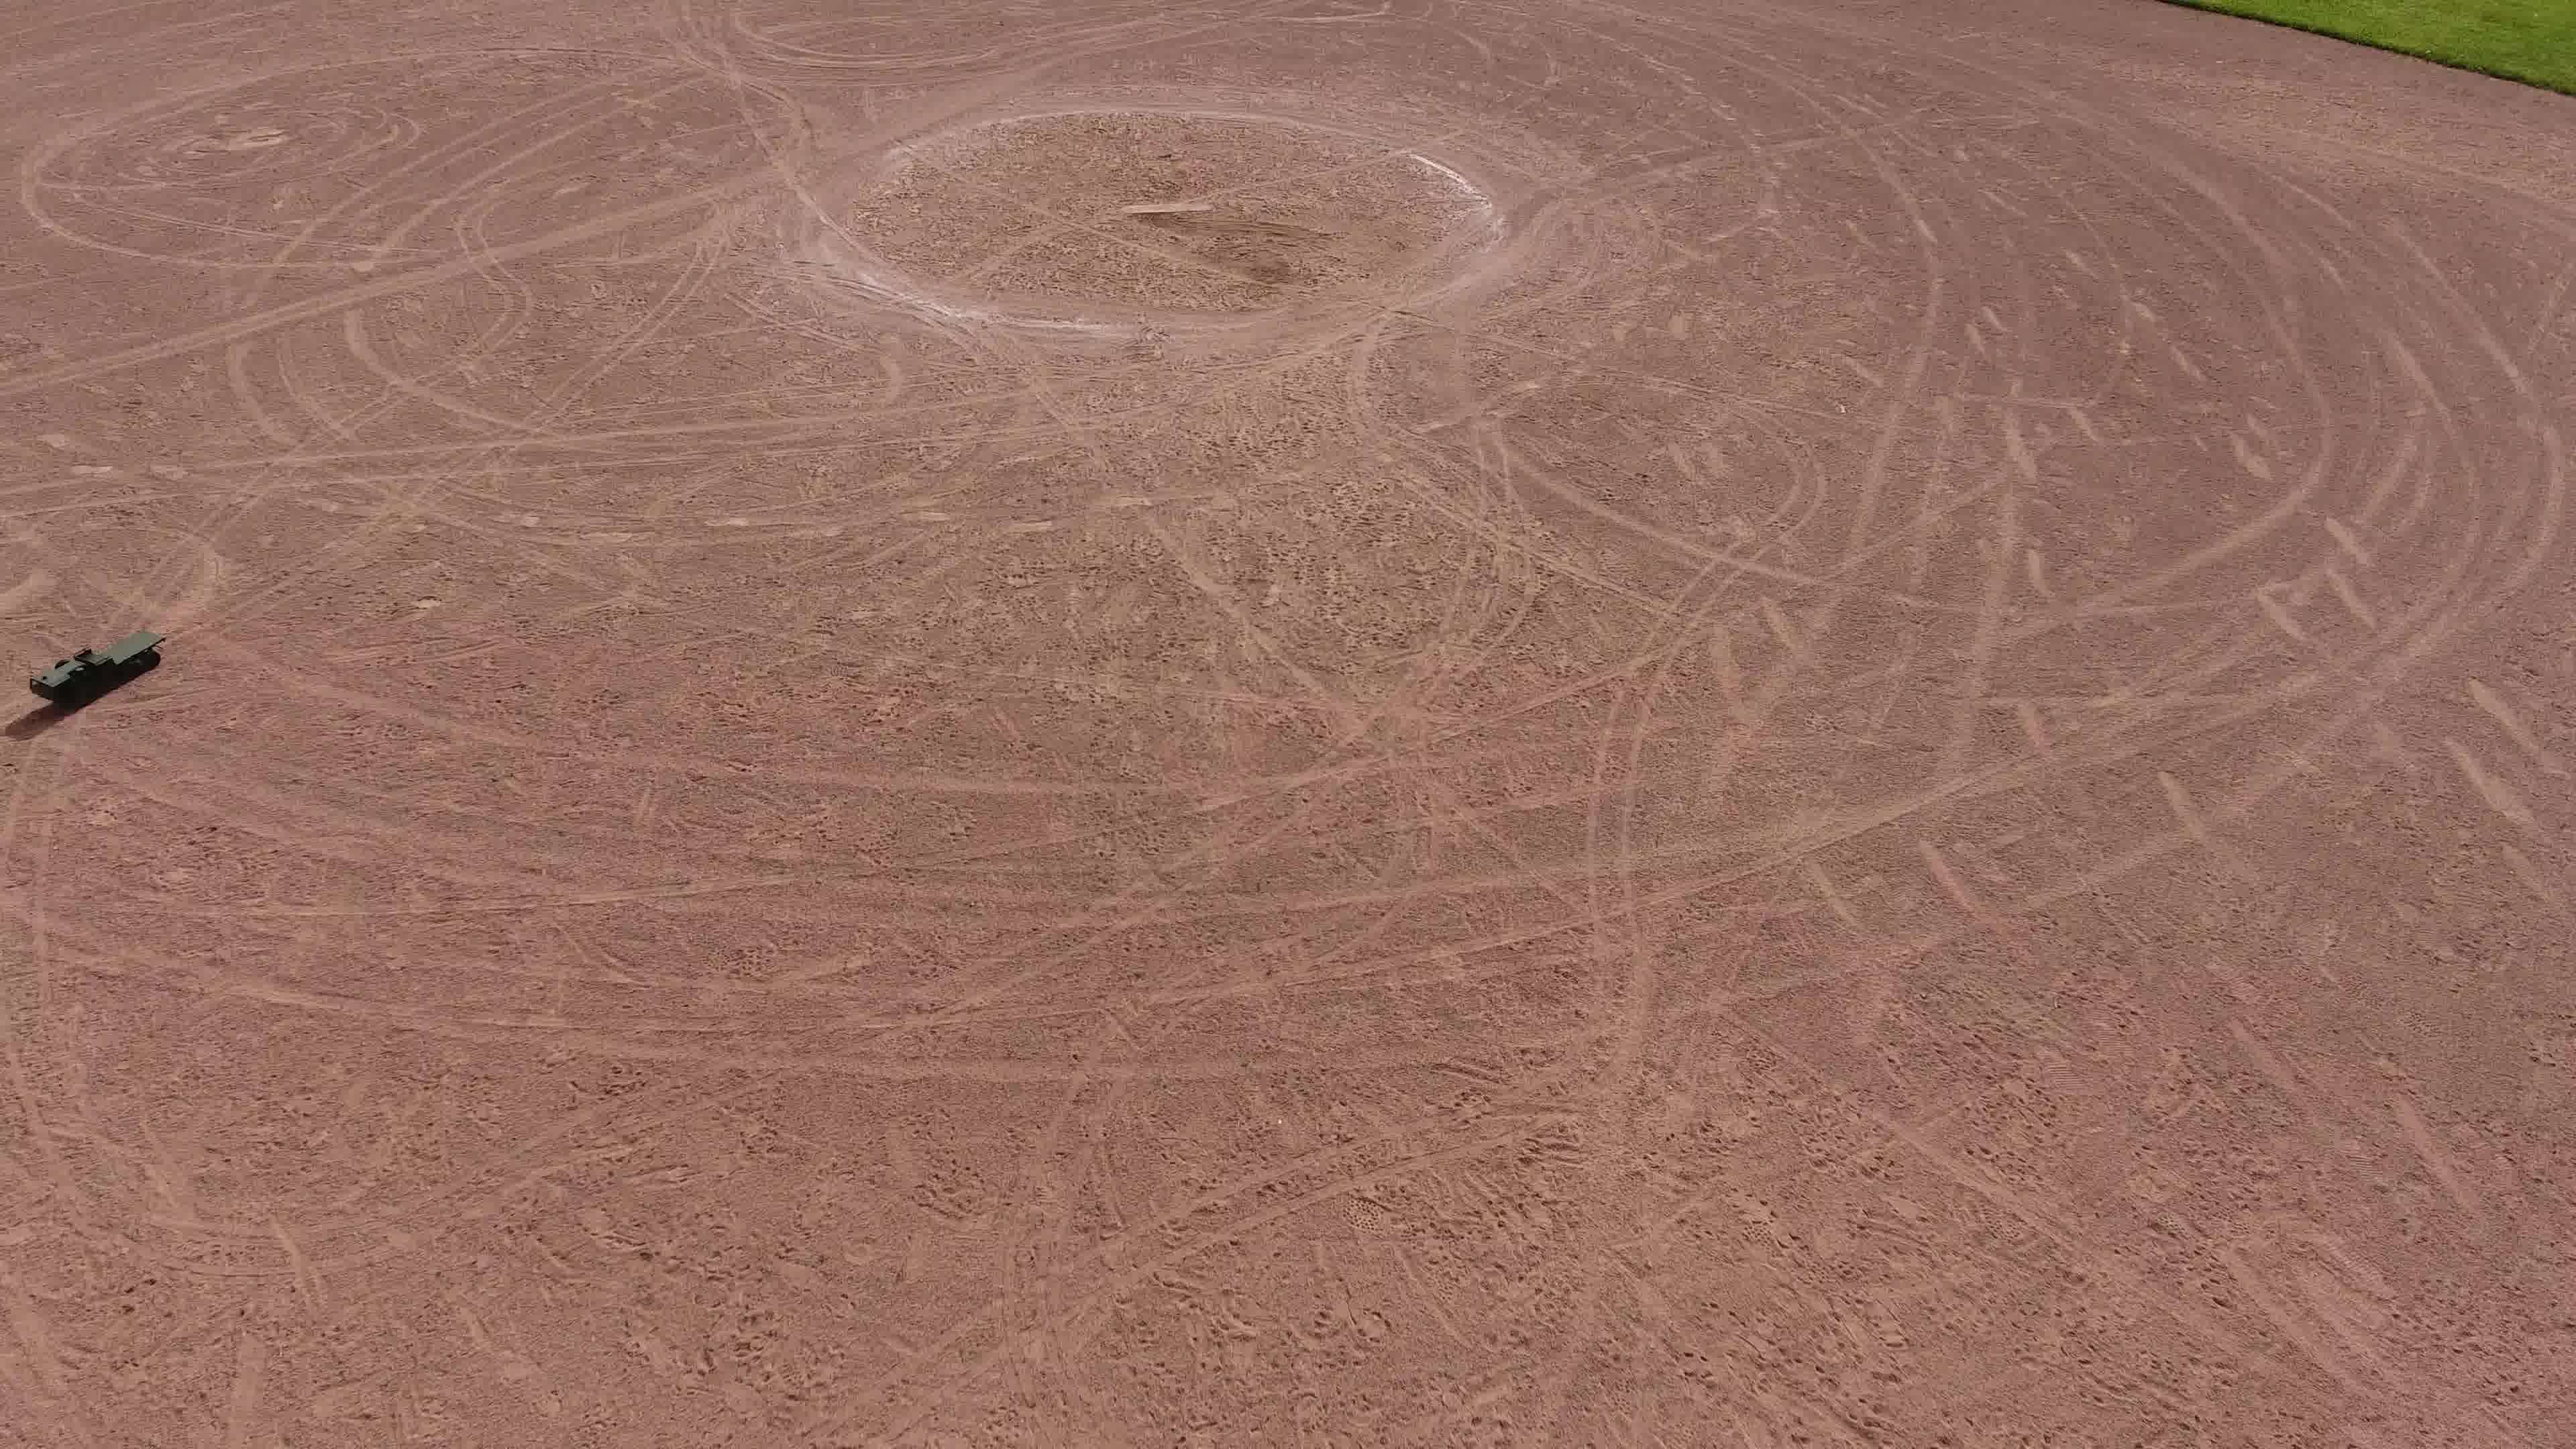transporter9: (28, 625, 168, 715)
